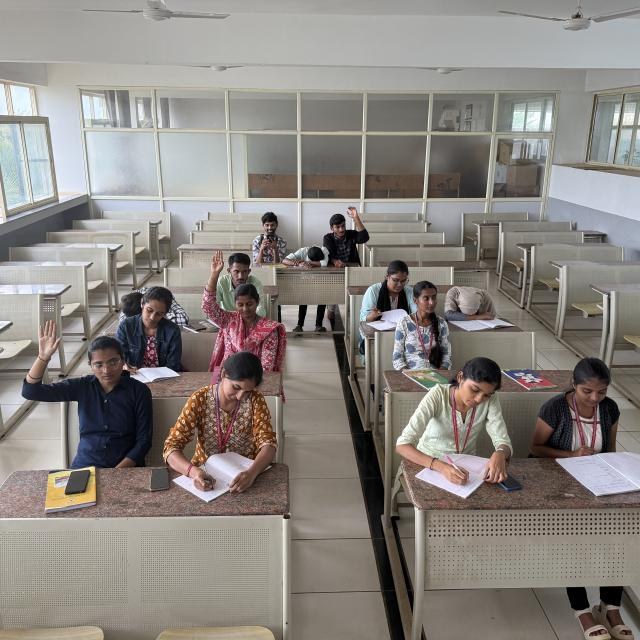Hand Rising: (21, 321, 143, 451), (202, 249, 276, 359), (327, 205, 367, 264)
Reading: (536, 357, 626, 488)
Sleeping: (119, 283, 187, 328), (442, 282, 497, 321), (285, 242, 329, 268)
Using Phone: (252, 213, 286, 261)
Writing: (168, 348, 266, 494), (394, 357, 493, 489), (117, 289, 181, 383), (362, 256, 416, 334)
